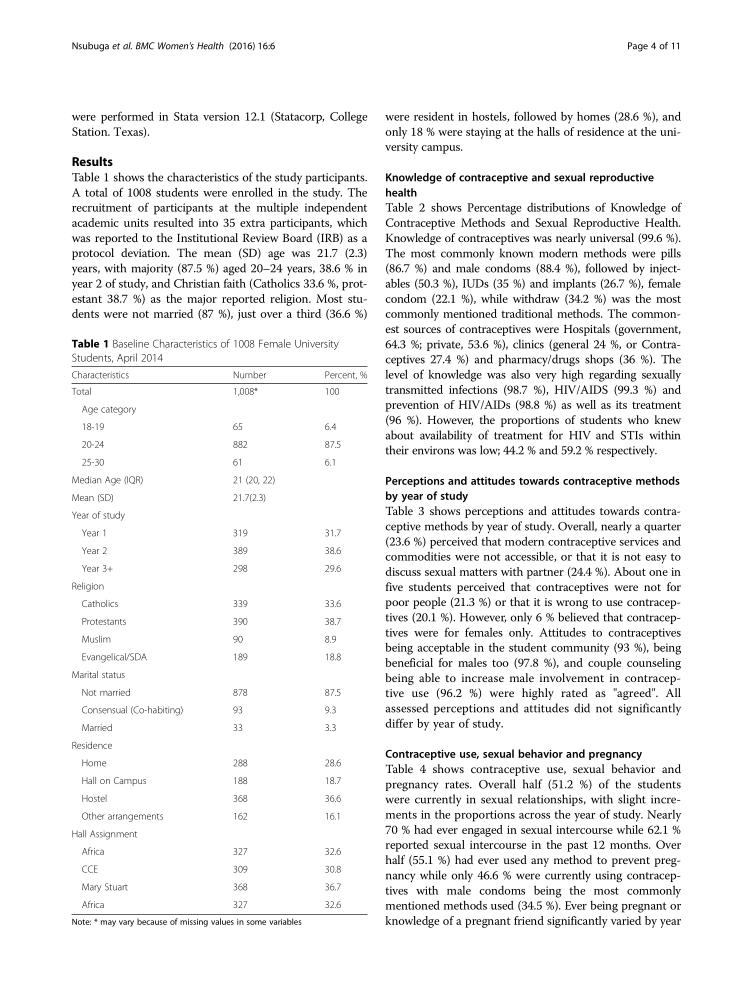table: (71, 369, 367, 910)
